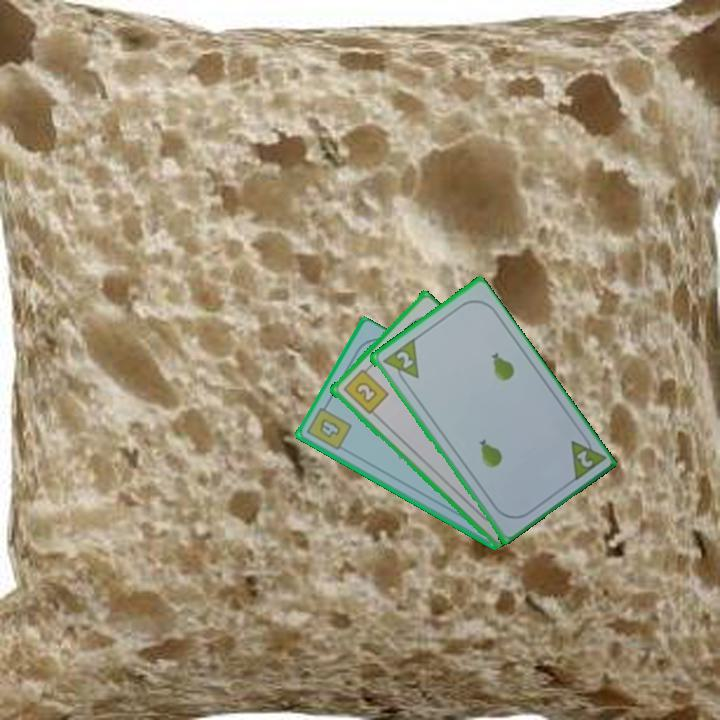2b: (339, 362, 391, 417)
2p: (392, 347, 416, 372), (572, 446, 596, 470)
4b: (303, 399, 355, 453)
